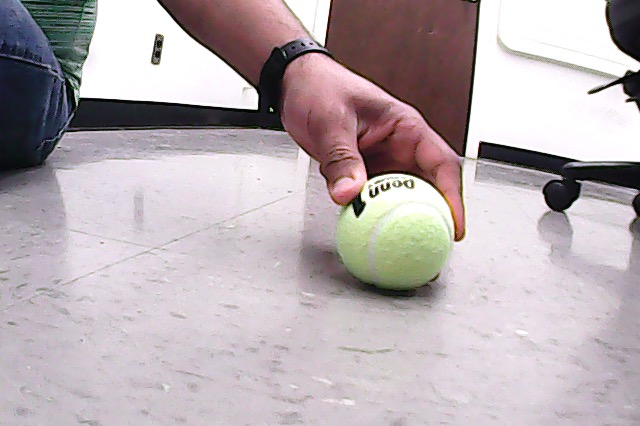ball: (337, 172, 454, 290)
